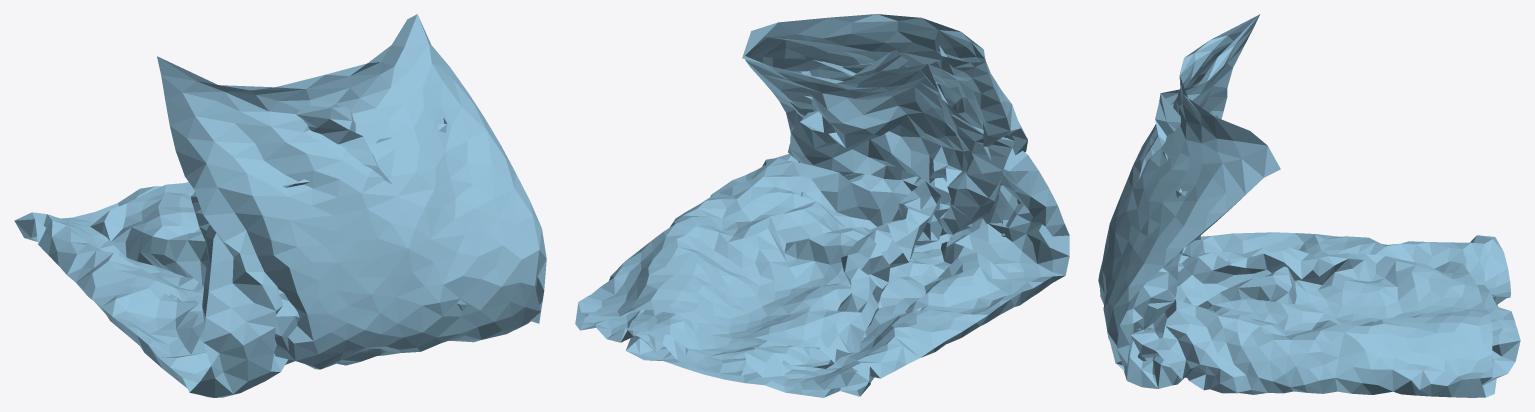
The model's file is frame_12.glb.
3 views of the same model, side by side, from view 1: azimuth 30°, elevation 25°; view 2: azimuth 150°, elevation 25°; view 3: azimuth 270°, elevation 25° (orthographic). The views are drawn at different scales.
Parts seen in each view (by area): view 1: frame_12.obj; view 2: frame_12.obj; view 3: frame_12.obj.
Boxes of the visible parts, <box> form: frame_12.obj: <box>14,14,546,397</box>; frame_12.obj: <box>575,14,1069,397</box>; frame_12.obj: <box>1098,14,1520,397</box>.
Bounding box in the file's own units: 0.9823 × 0.7553 × 1.13.
